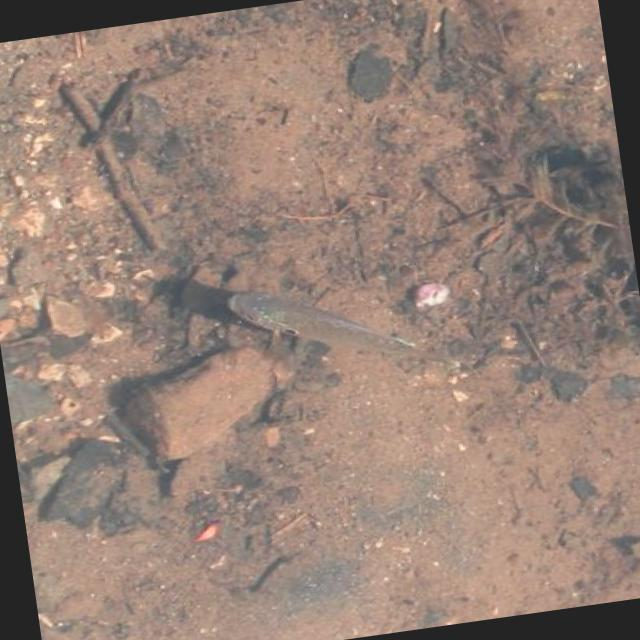Gunes Levregi: (210, 252, 472, 403)
